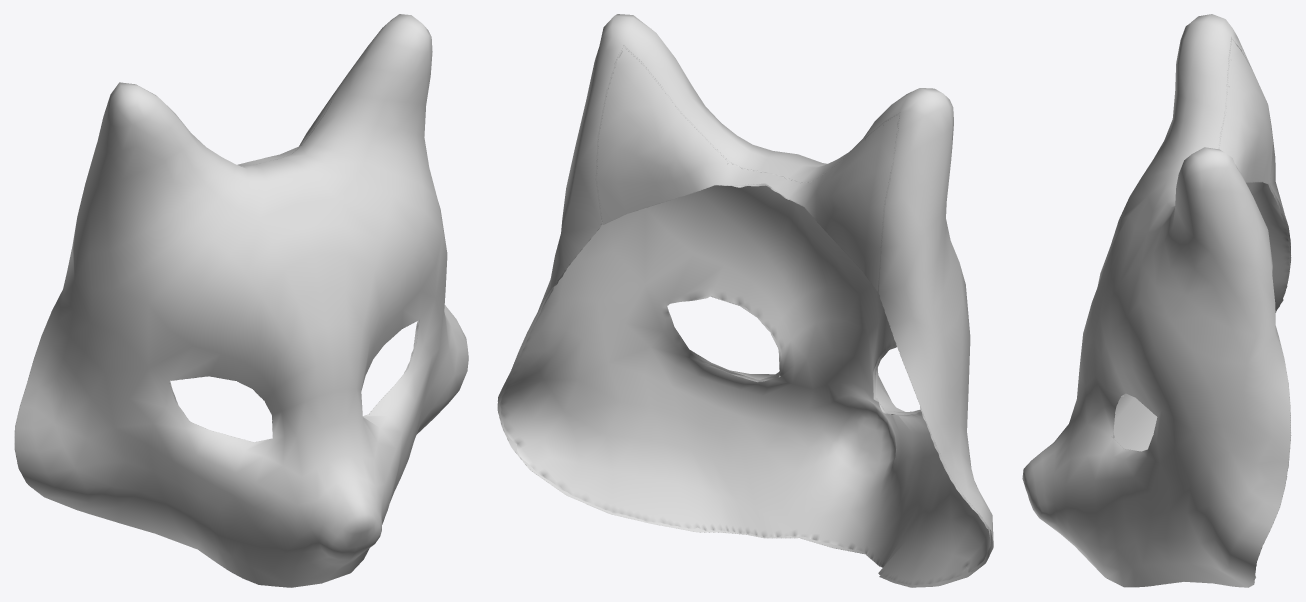
The model's file is F_FoxMask 1.fbx.
3 views of the same model, side by side, from view 1: azimuth 30°, elevation 25°; view 2: azimuth 150°, elevation 25°; view 3: azimuth 270°, elevation 25° (orthographic). The views are drawn at different scales.
Visible parts, largest first — view 1: F_FoxMask; view 2: F_FoxMask; view 3: F_FoxMask.
Boxes of the visible parts, x1,y1,x2,y2 form: F_FoxMask: (14, 14, 468, 587); F_FoxMask: (497, 14, 993, 587); F_FoxMask: (1022, 14, 1291, 587).
Bounding box in the file's own units: 38.55 × 40.14 × 20.29.
Materials: 1 (1 with a texture image).
